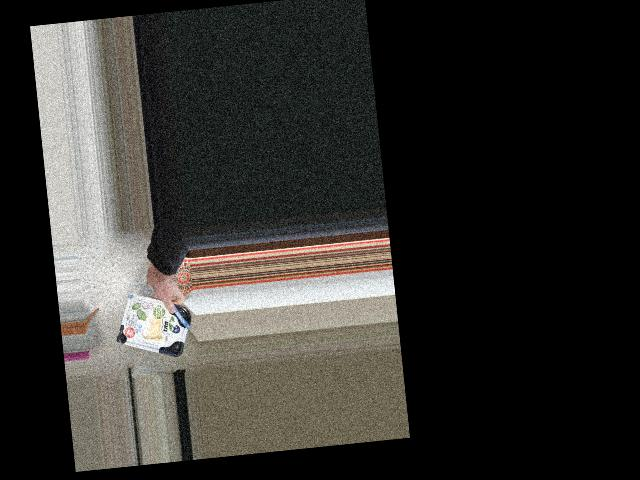cheese: (120, 296, 186, 353)
